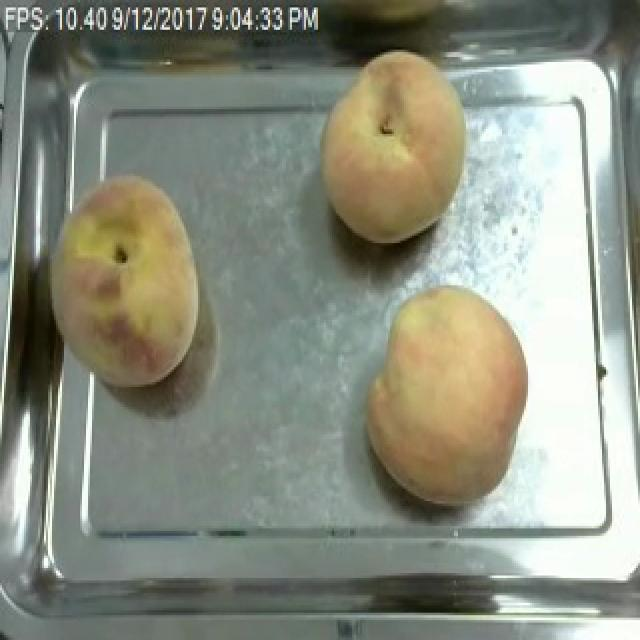Fruit: (356, 276, 538, 514), (36, 164, 210, 399), (310, 37, 478, 251)
